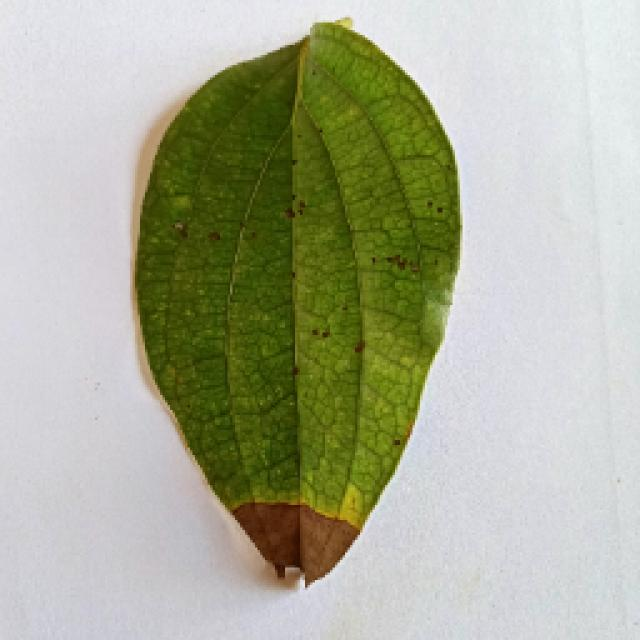footrot: (130, 20, 460, 585)
